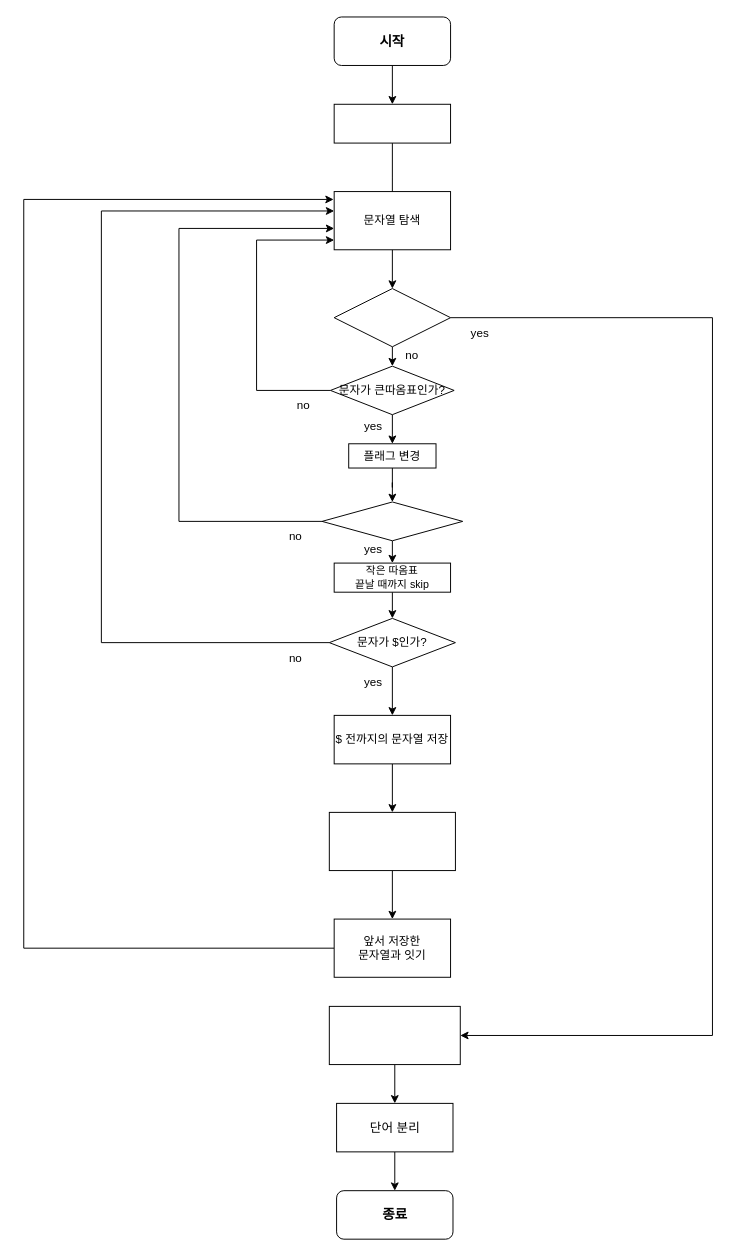
Some shapes in this 737 by 1256 pixel diagram are drawn without their labels. Each missing label, with the box of its shape:
끝까지 확인?: (333, 288, 451, 347)
작은 따옴표 && 플래그 on?: (321, 501, 463, 541)
저장한 문자열과 뒷부분에 남은 문자열 잇기: (328, 1005, 460, 1065)
틸드 확장 (HOME): (333, 103, 451, 143)
환경변수 key에 대응되는 value를 찾아서 변환: (328, 811, 455, 871)
